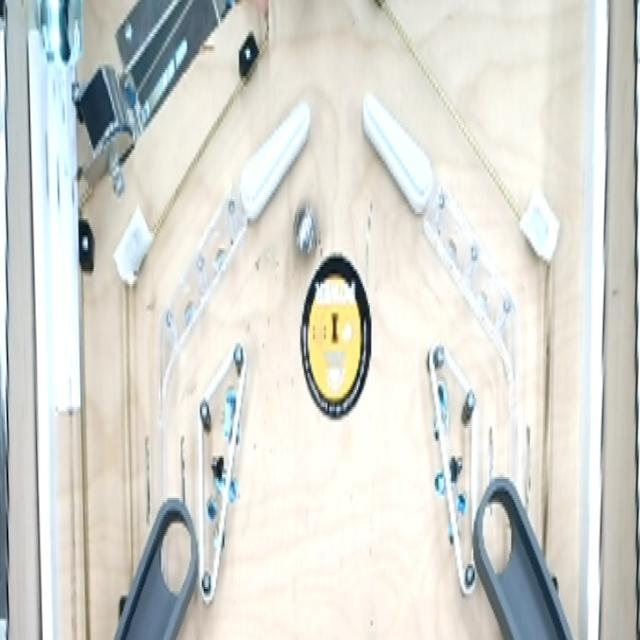ball: (287, 199, 321, 262)
flipper-left: (359, 84, 441, 224)
flipper-right: (234, 85, 316, 234)
